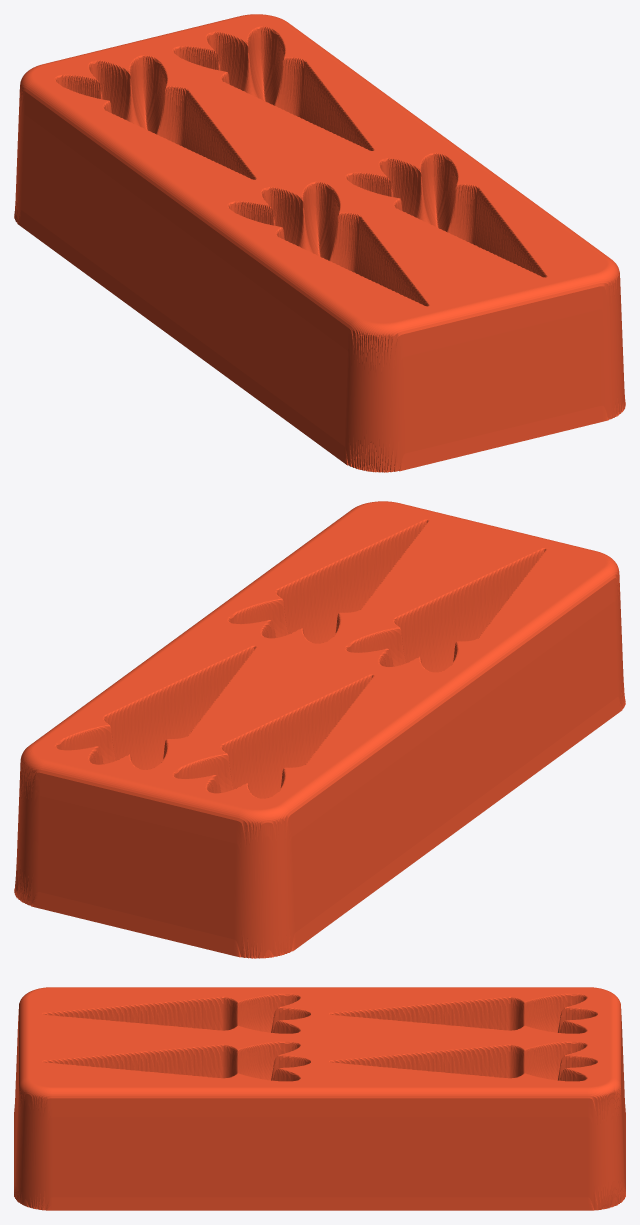
The model's file is mold.glb.
3 views of the same model, one above another, from view 1: azimuth 30°, elevation 25°; view 2: azimuth 150°, elevation 25°; view 3: azimuth 270°, elevation 25° (orthographic). The views are drawn at different scales.
Parts seen in each view (by area): view 1: geometry_0; view 2: geometry_0; view 3: geometry_0.
Part boxes in pixels (x1,y1,x2,y2): geometry_0: (14,14,625,472); geometry_0: (14,501,625,958); geometry_0: (14,987,625,1210).
Size of the model in its own units: 0.0633 by 0.031 by 0.1466.
